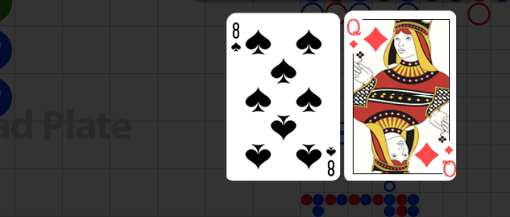8S: (230, 21, 243, 55)
9D: (443, 144, 456, 179)
QD: (400, 134, 444, 181), (333, 14, 377, 60)
